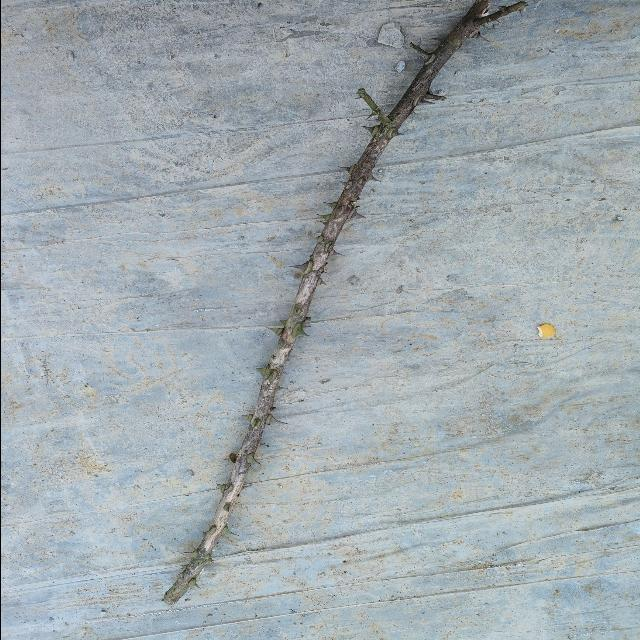branch: (174, 0, 528, 592)
